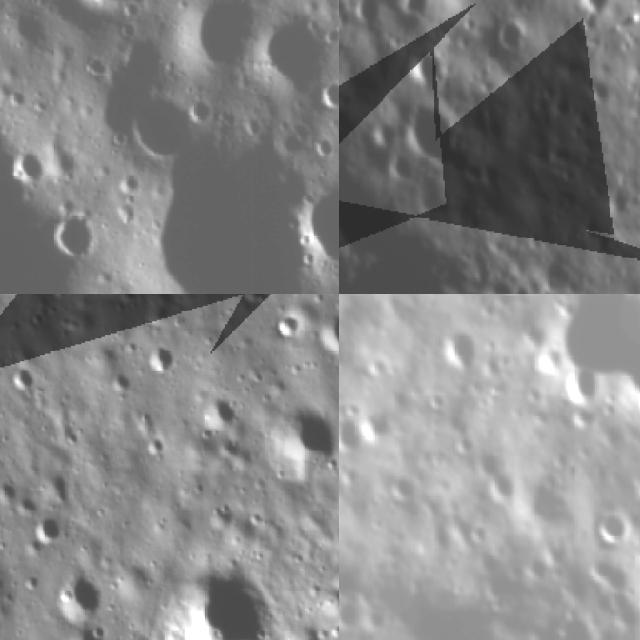crater: (140, 148, 322, 294), (522, 294, 640, 450), (137, 559, 294, 640), (251, 16, 336, 106), (262, 395, 339, 484), (393, 88, 466, 172), (181, 0, 259, 75), (514, 472, 588, 544), (430, 314, 500, 386), (41, 560, 110, 629), (128, 94, 196, 162), (580, 542, 640, 605), (555, 359, 614, 415), (301, 183, 339, 269), (46, 208, 99, 269), (194, 384, 248, 435), (591, 502, 638, 552), (488, 15, 536, 60), (307, 306, 339, 365), (27, 509, 70, 552), (385, 468, 427, 512), (6, 147, 46, 192), (603, 176, 640, 222), (272, 305, 306, 347), (339, 409, 368, 458), (143, 339, 178, 379), (63, 611, 111, 640), (78, 53, 115, 90), (582, 76, 618, 113), (136, 427, 170, 465), (4, 361, 40, 395), (312, 77, 339, 117), (106, 367, 138, 398), (484, 294, 555, 307), (235, 294, 271, 311), (327, 559, 339, 598), (60, 294, 89, 303)
